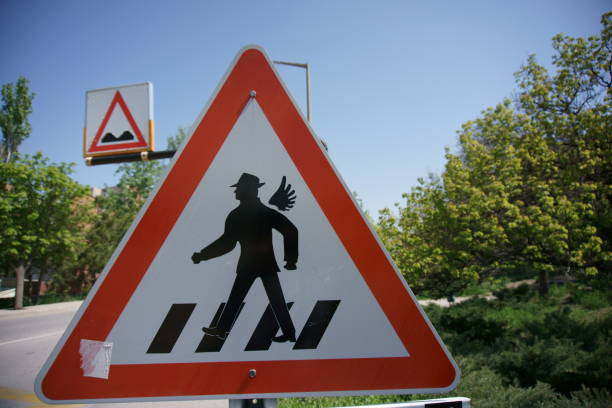pedestrian: (113, 115, 414, 371)
speed-breaker: (84, 89, 151, 152)
